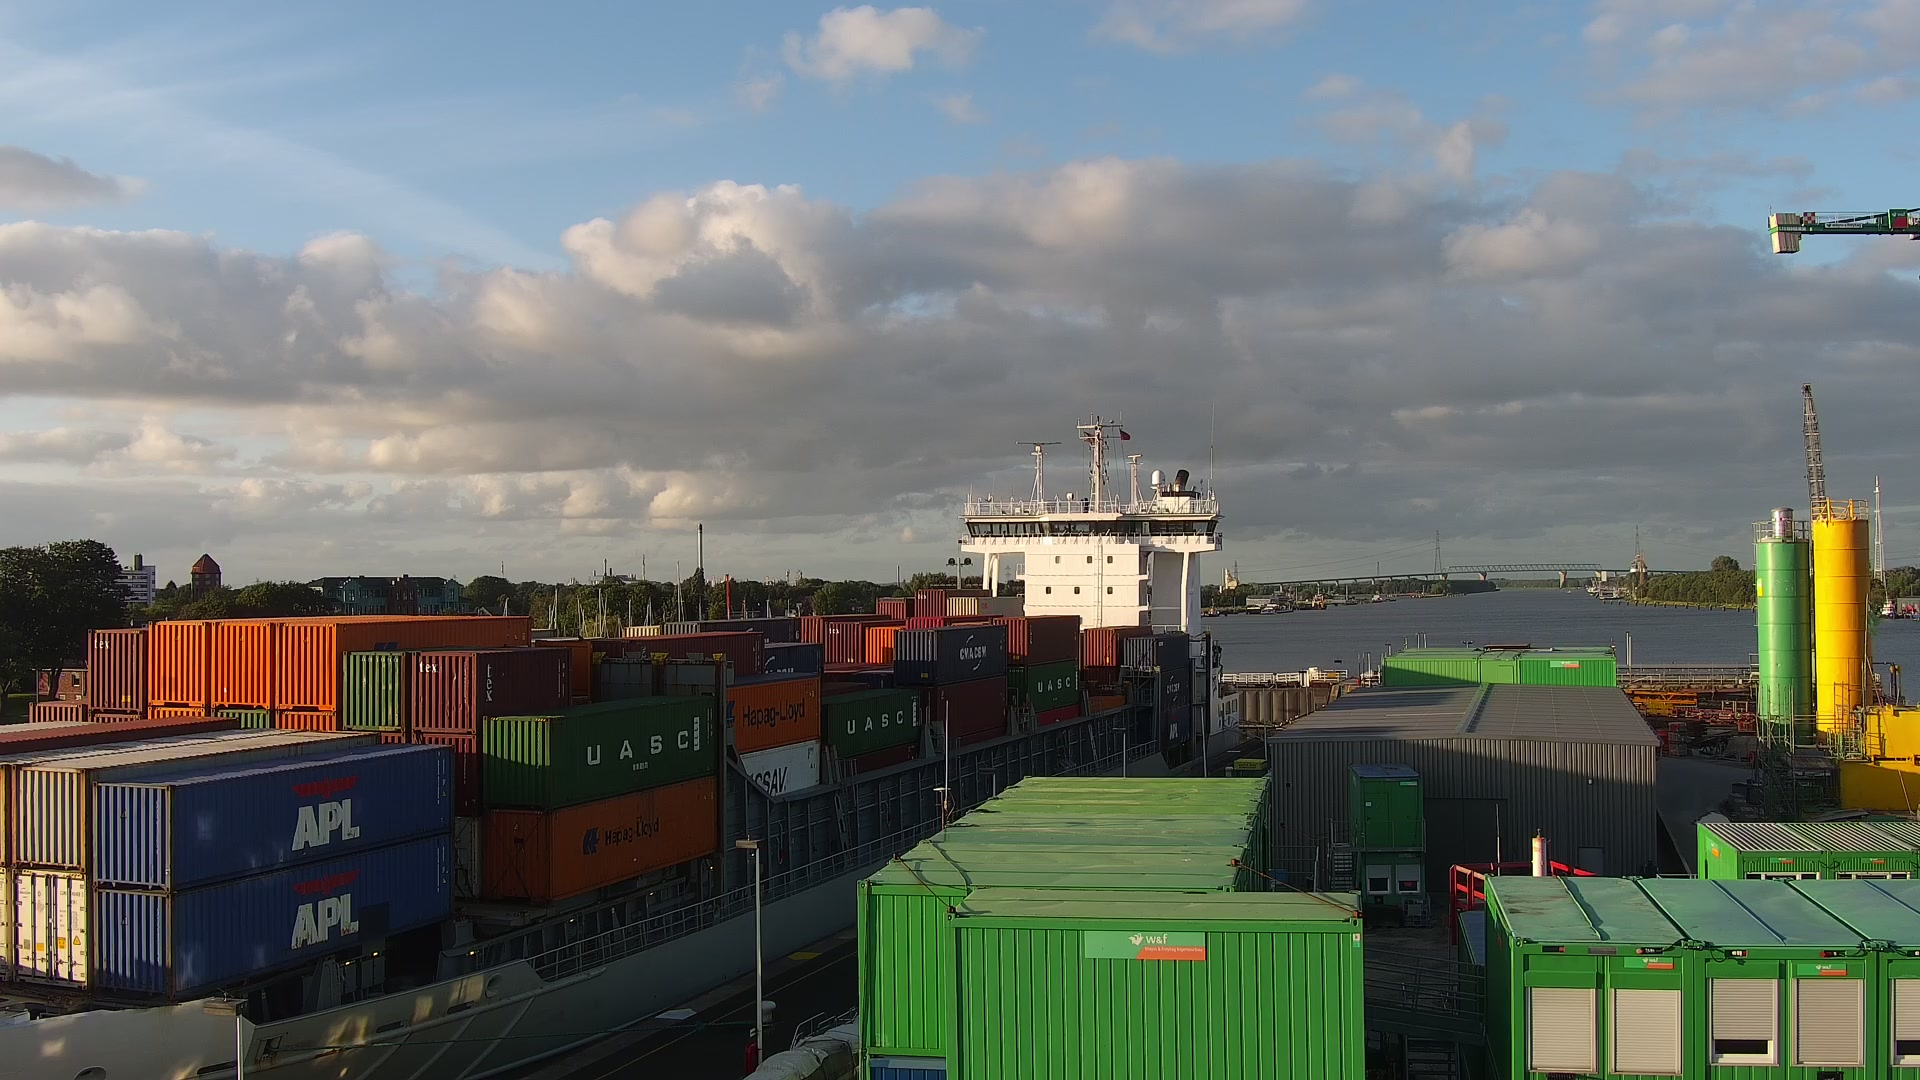sea: (1, 398, 1242, 1080), (1311, 583, 1327, 609), (1878, 601, 1895, 618), (1585, 578, 1600, 597), (1259, 605, 1280, 615), (1280, 601, 1294, 612), (1371, 592, 1382, 603)
